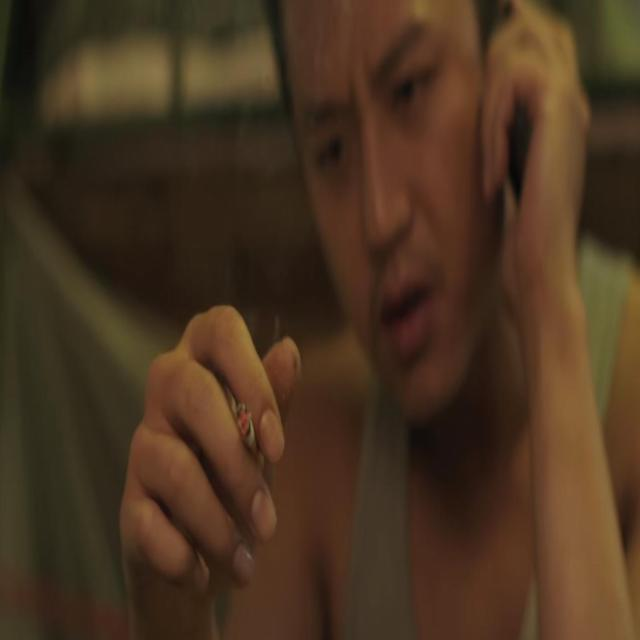cigarette: (234, 398, 269, 477)
